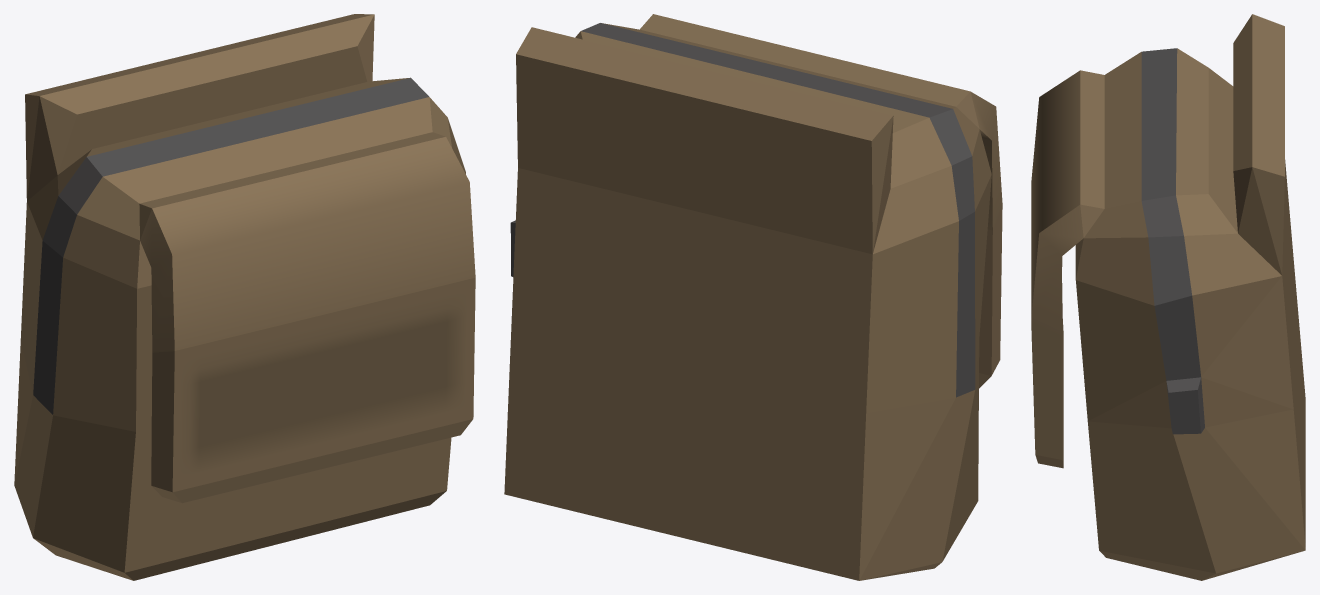
Rendered from SM_Chr_Attach_Pouch_04.fbx.
The picture shows the model from 3 angles, left to right: view 1: azimuth 30°, elevation 25°; view 2: azimuth 150°, elevation 25°; view 3: azimuth 270°, elevation 25°; orthographic projection. The views are drawn at different scales.
Parts seen in each view (by area): view 1: SM_Chr_Attach_Pouch_04; view 2: SM_Chr_Attach_Pouch_04; view 3: SM_Chr_Attach_Pouch_04.
Boxes of the visible parts, x1,y1,x2,y2 form: SM_Chr_Attach_Pouch_04: (14,14,475,580); SM_Chr_Attach_Pouch_04: (504,14,1002,580); SM_Chr_Attach_Pouch_04: (1031,14,1305,580).
Bounding box in the file's own units: 14.48 × 14.54 × 8.84.
